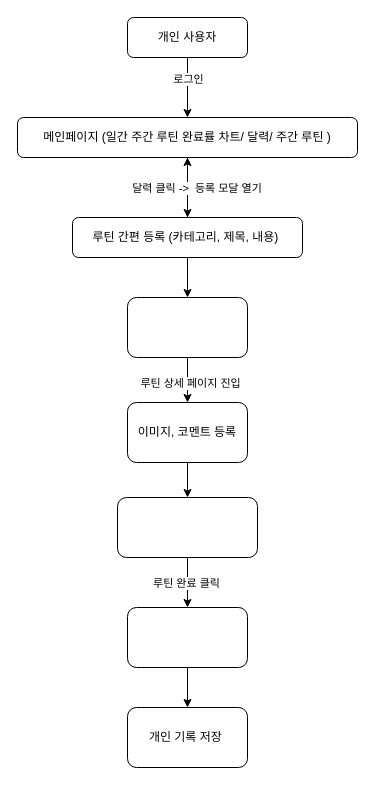
Some shapes in this 375 by 785 pixel diagram are drawn without their labels. Here are the shapes that lost their labels. From the top down, the centre of each, then its label:
At point (187, 327): "루틴 저장".
At point (187, 527): "루틴 이미지/코멘트 저장".
At point (187, 637): "루틴 완료".
